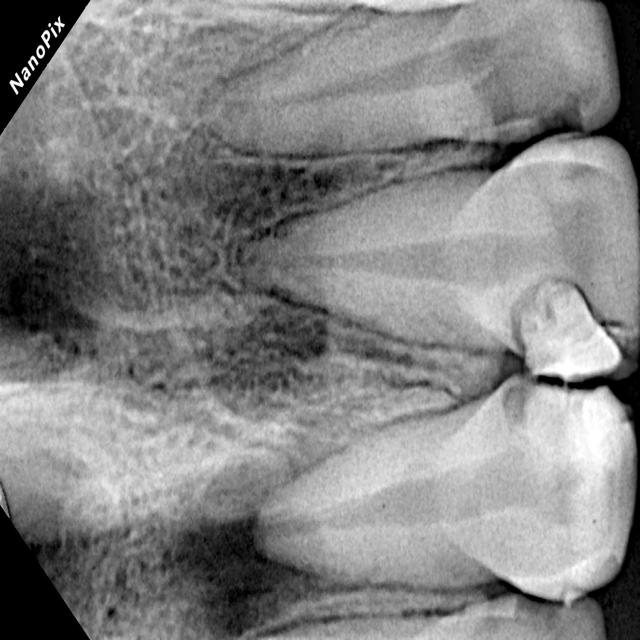karies: (500, 355, 619, 464), (524, 290, 615, 382)
